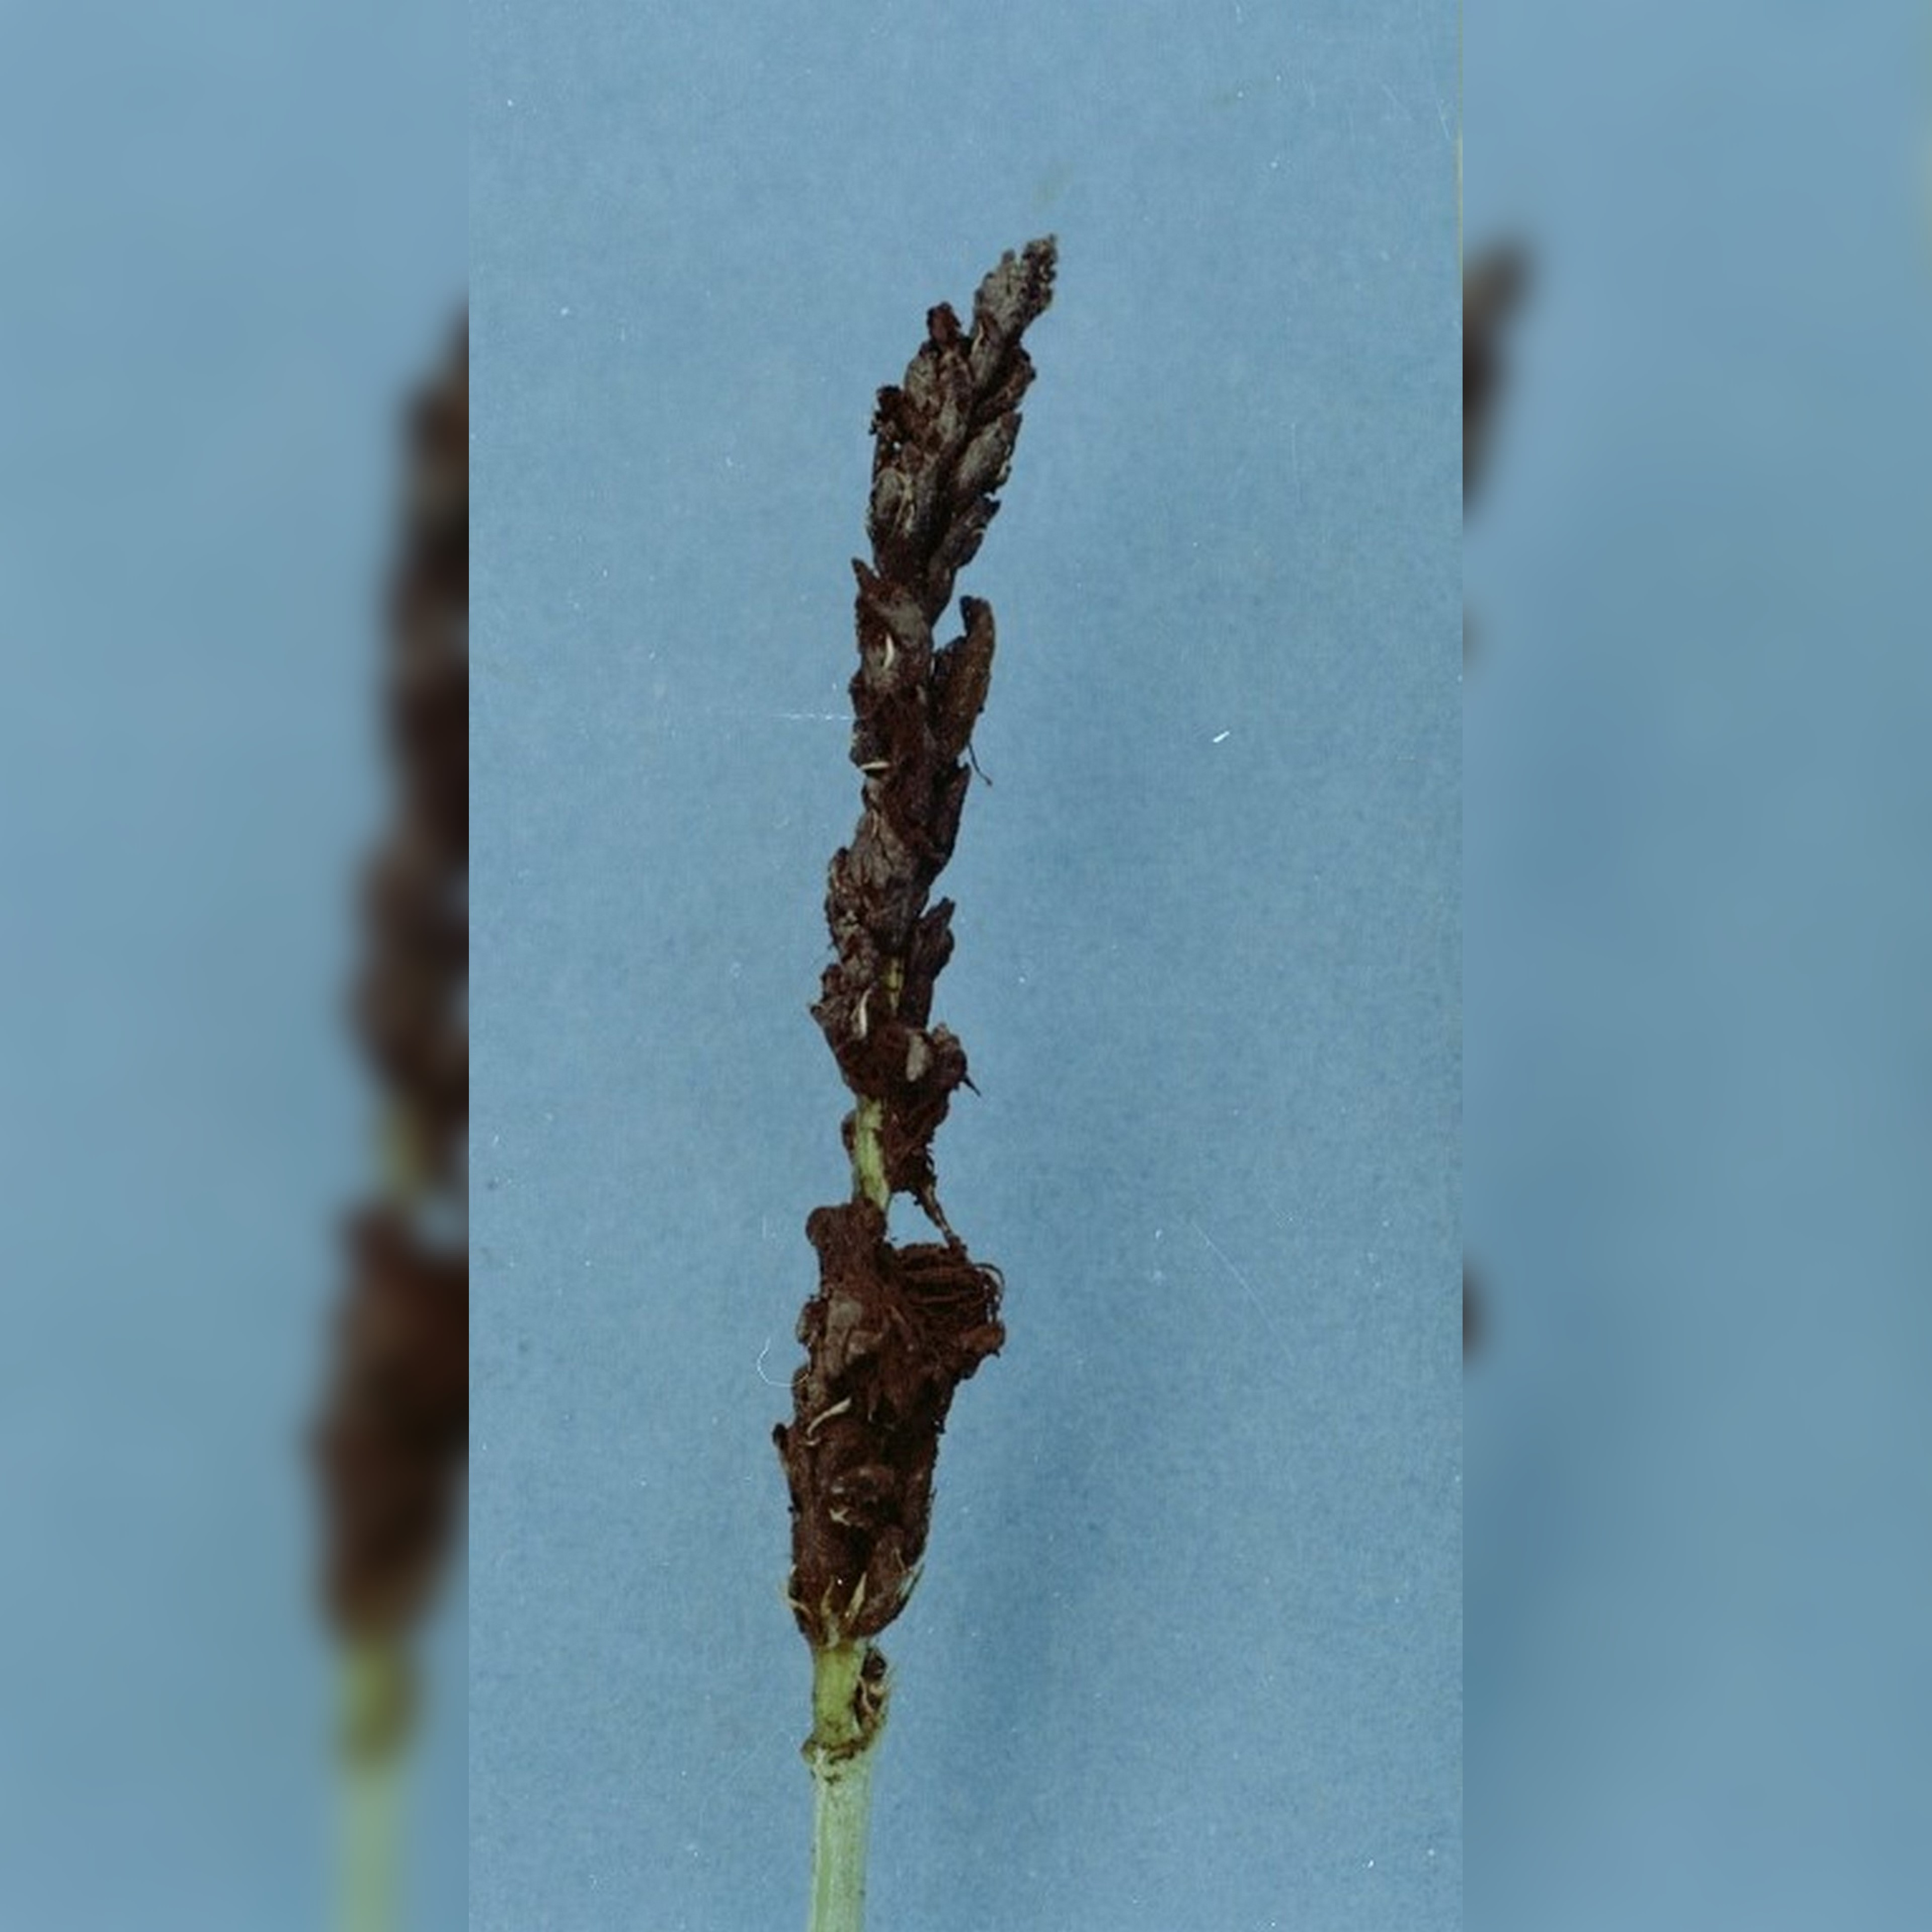Wheat Loose Smut: (713, 234, 1070, 1766)
